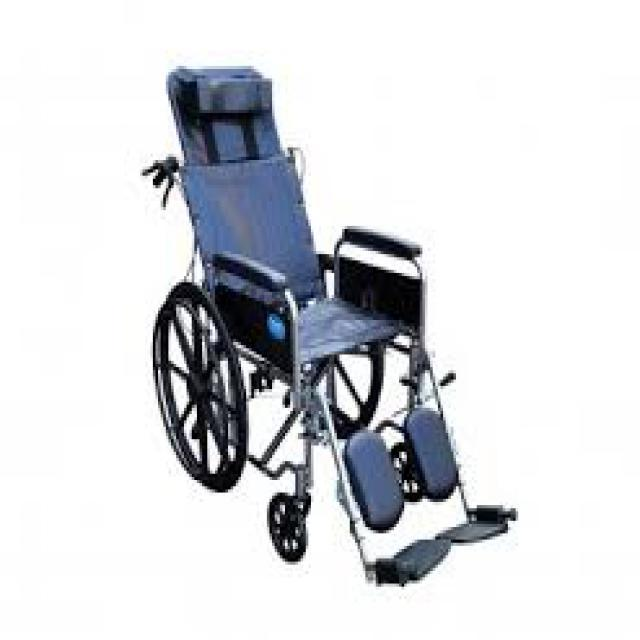wheelchair: (124, 47, 526, 593)
